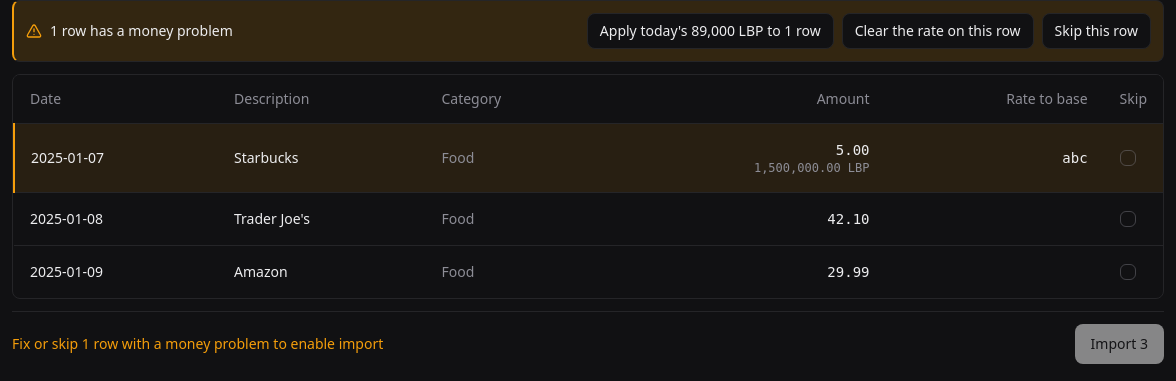
it: ImportPreviewTable — money › shows the sheet’s own text when the rate cell cannot be used
Double-click the text "abc" at (1075, 158), box [1062,150,1088,166]
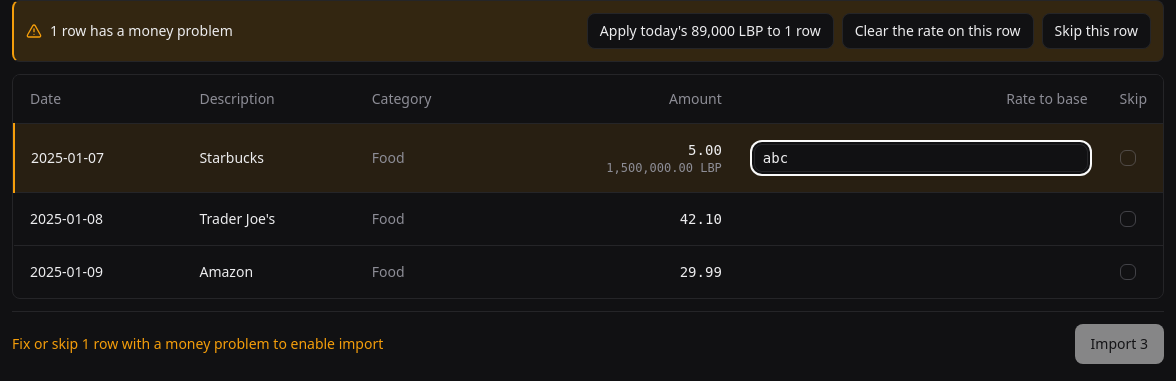
Expected: the field showing "abc" is shown, [754,144,1088,172]
